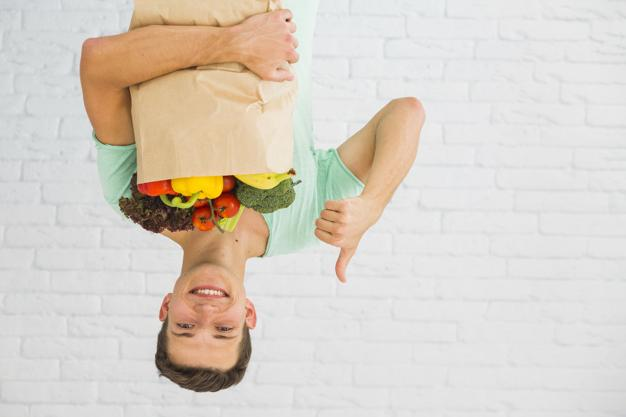thumbsdown: (314, 200, 353, 283)
